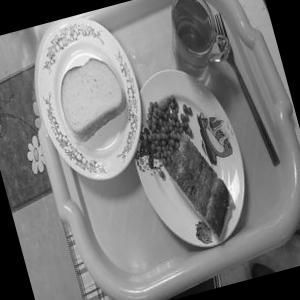bread: (37, 44, 144, 146)
casserole: (128, 79, 242, 246)
tea: (147, 0, 235, 81)
